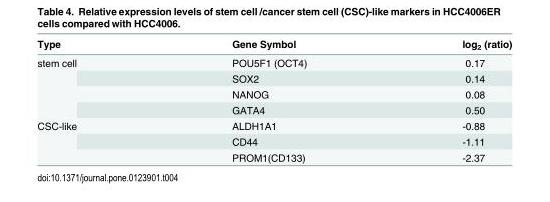table: (36, 37, 511, 162)
table column: (153, 37, 383, 162), (383, 37, 511, 162), (36, 37, 153, 162)
table column header: (36, 37, 511, 53)
table row: (36, 53, 511, 70), (36, 37, 511, 53), (36, 70, 511, 86), (36, 101, 511, 117), (36, 117, 511, 133), (36, 133, 511, 149), (36, 86, 511, 101), (36, 149, 511, 162)
table spanning cell: (36, 53, 153, 117), (36, 117, 153, 162)
